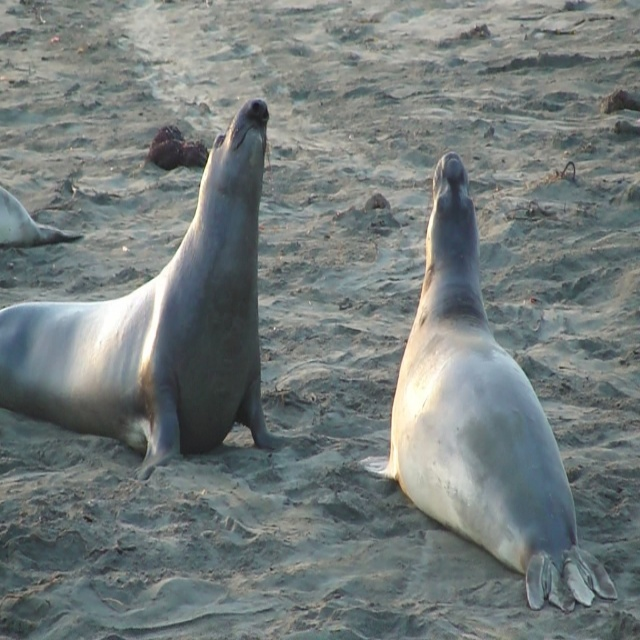Sea lion: (356, 148, 624, 618), (1, 98, 280, 473), (0, 182, 82, 247)
